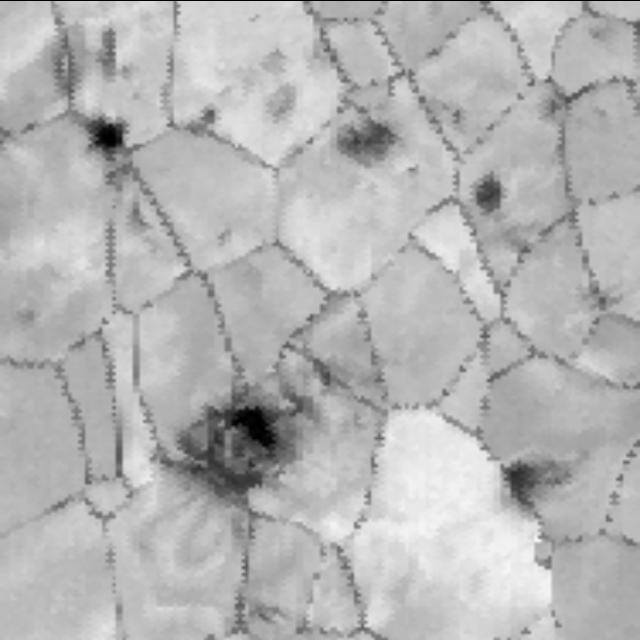good_void: (142, 387, 305, 511), (323, 100, 407, 182), (220, 48, 301, 125), (492, 446, 549, 511), (78, 109, 130, 165), (468, 164, 513, 226), (98, 24, 134, 89), (305, 349, 331, 385), (198, 103, 220, 126), (402, 156, 420, 177), (215, 226, 234, 242), (448, 109, 463, 125)
